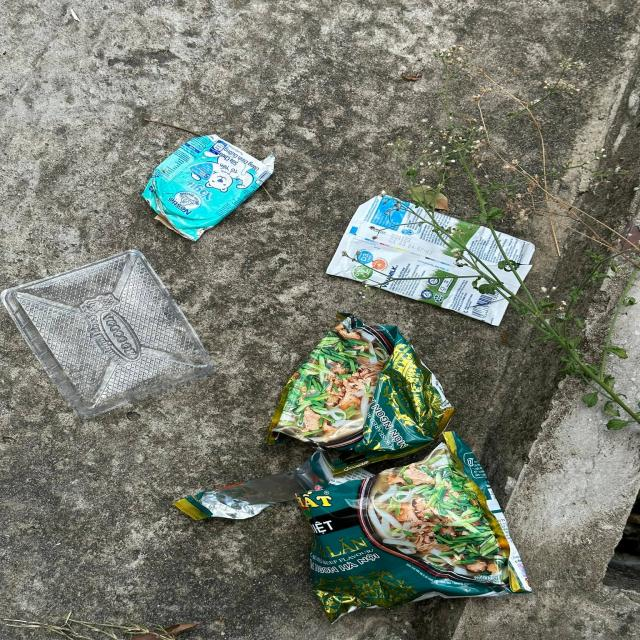milk box: (327, 193, 537, 329), (144, 134, 272, 242)
plastic holder: (0, 248, 213, 418)
snack package: (172, 432, 531, 626), (272, 314, 454, 473)
